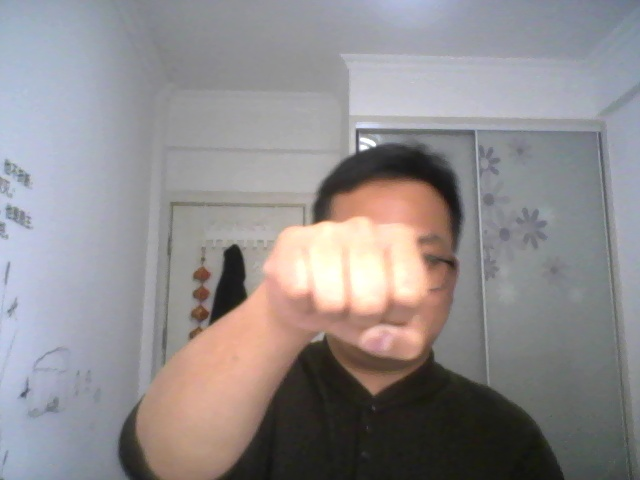Yes: (255, 217, 441, 363)
